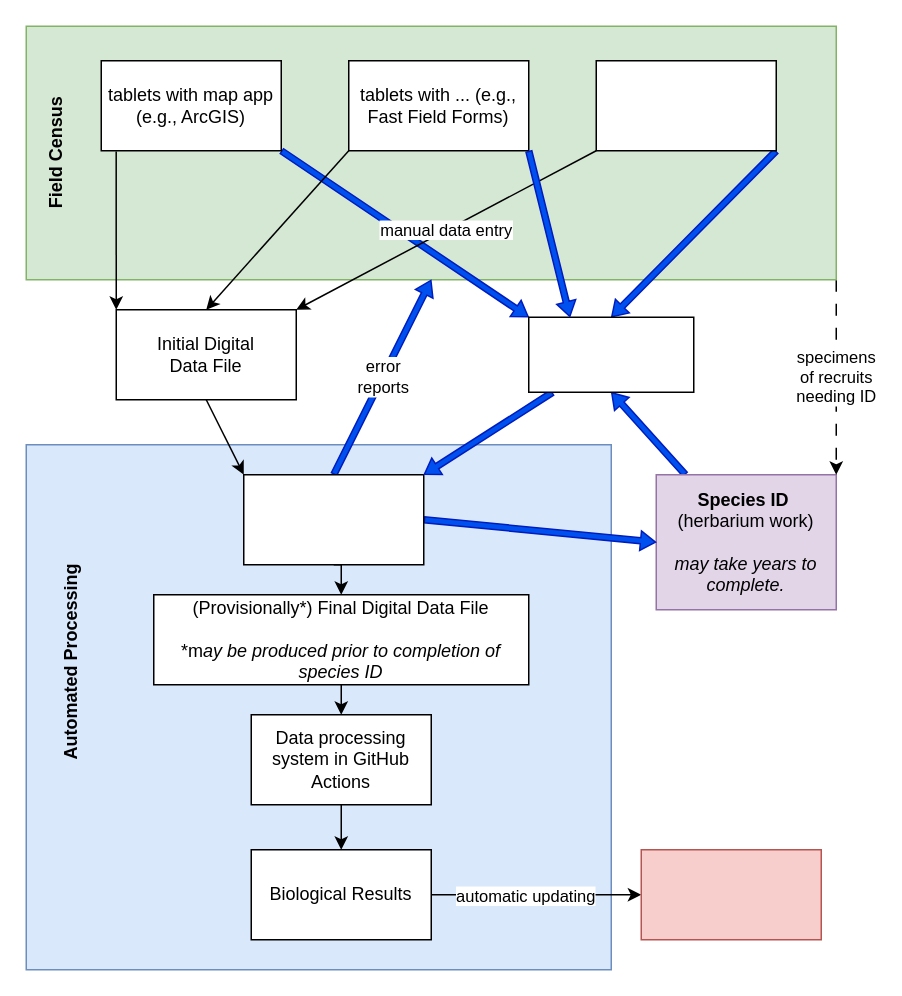
Image size: 902x996. Some labels were removed from this diagram. Each missing label, with the box of its shape:
Corrected Digital Data File: (527, 316, 694, 392)
Dashboard: (640, 848, 821, 940)
Paper forms: (595, 59, 776, 151)
QA/QC system in GitHub Actions: (242, 473, 424, 565)
